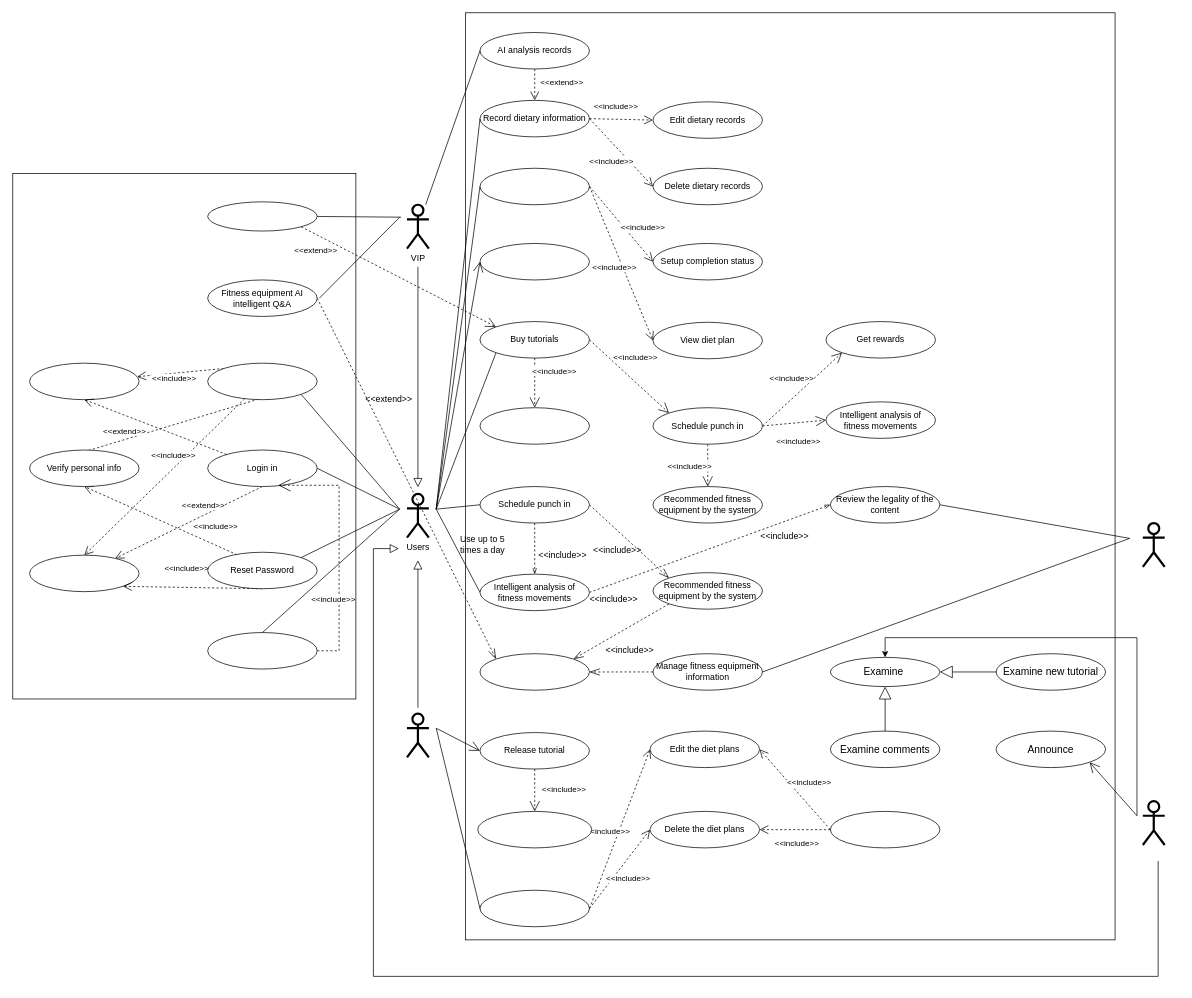
Some shapes in this 1192 by 998 pixel diagram are drawn without their labels. Here are the shapes that lost their labels. From the top down, the box of each, then its label:
(479, 168, 589, 205): Implementation of the diet plan
(207, 201, 317, 231): Get discount
(479, 243, 589, 280): Browse the tutorial
(29, 362, 139, 400): Set personal info
(207, 362, 317, 400): Register
(479, 407, 589, 444): Quit tutorials
(1141, 522, 1165, 568): System
(29, 554, 139, 592): Set user password
(207, 632, 317, 669): Delete Account
(479, 653, 589, 690): View the basic usage of fitness equipment
(406, 712, 430, 758): Uploader
(477, 811, 592, 848): Get revenue
(830, 811, 940, 848): Manage the diet plans
(1141, 800, 1165, 846): Administrator
(479, 890, 589, 927): Publish the diet plans
